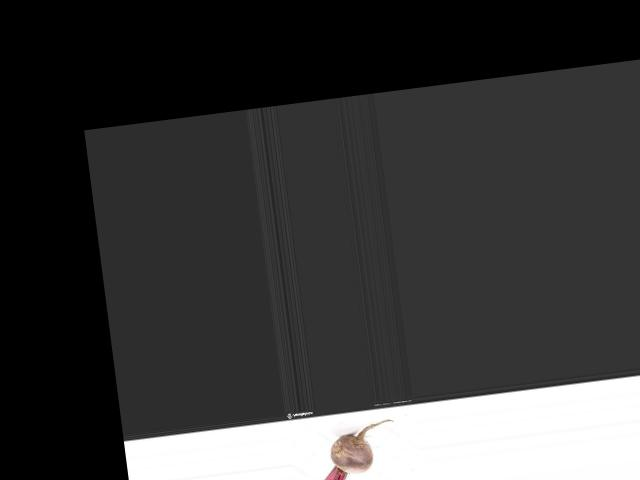beet: (314, 418, 402, 480)
